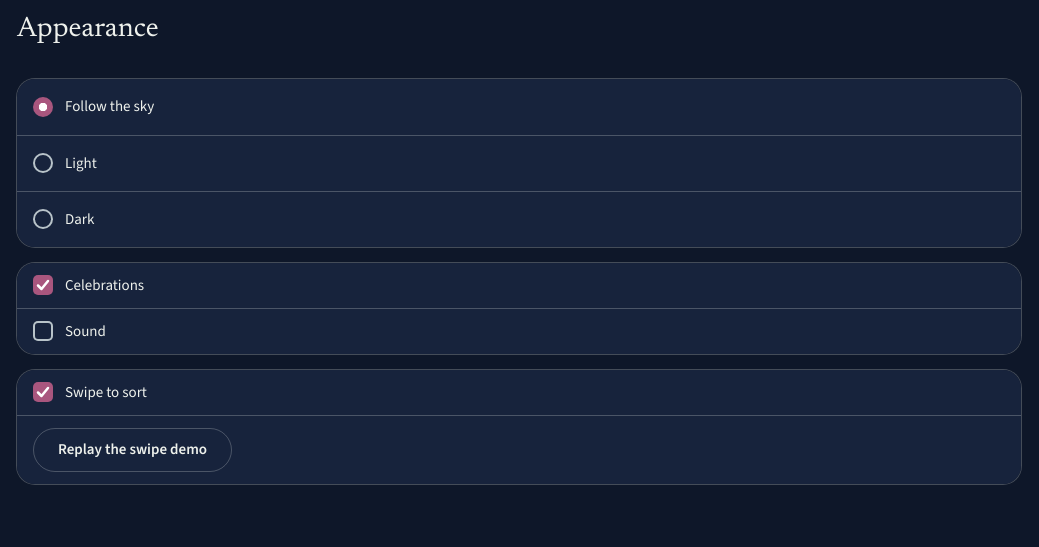
Test case: Appearance: Celebrations and Sound (sorting redesign, Settings) › a refused save puts the switch back and says why
The image size is (1039, 547).
What coordinates should you click on to do the following:
click the switch labelled "Sound"
I would click on:
 (43, 331)
Its box is [33,321,53,341].
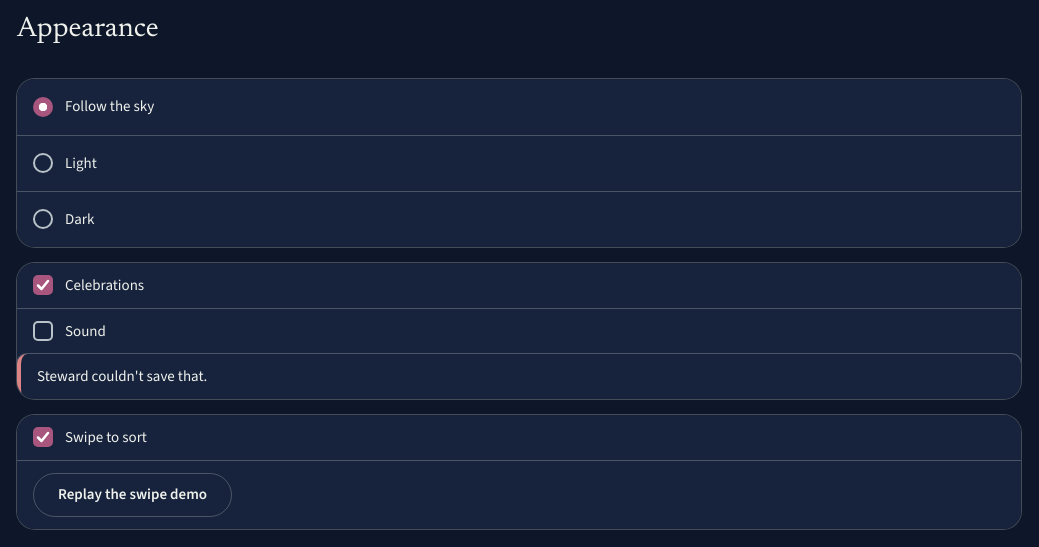
Now the text "Steward couldn't save that." is shown, box [17,354,1021,399]
